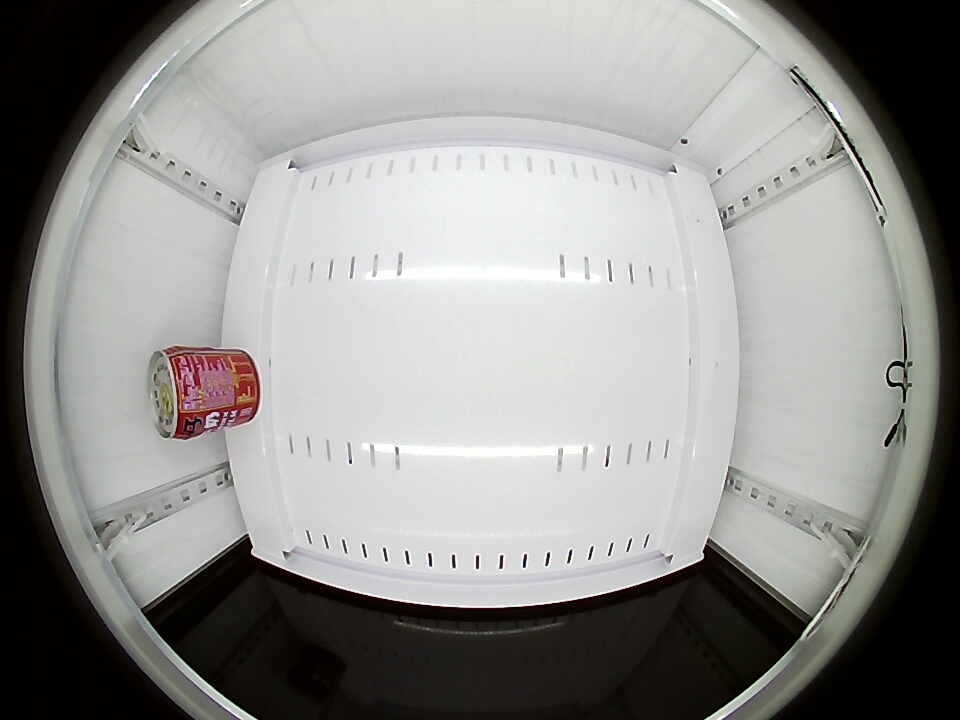wangzainiunai: (150, 346, 211, 441)
